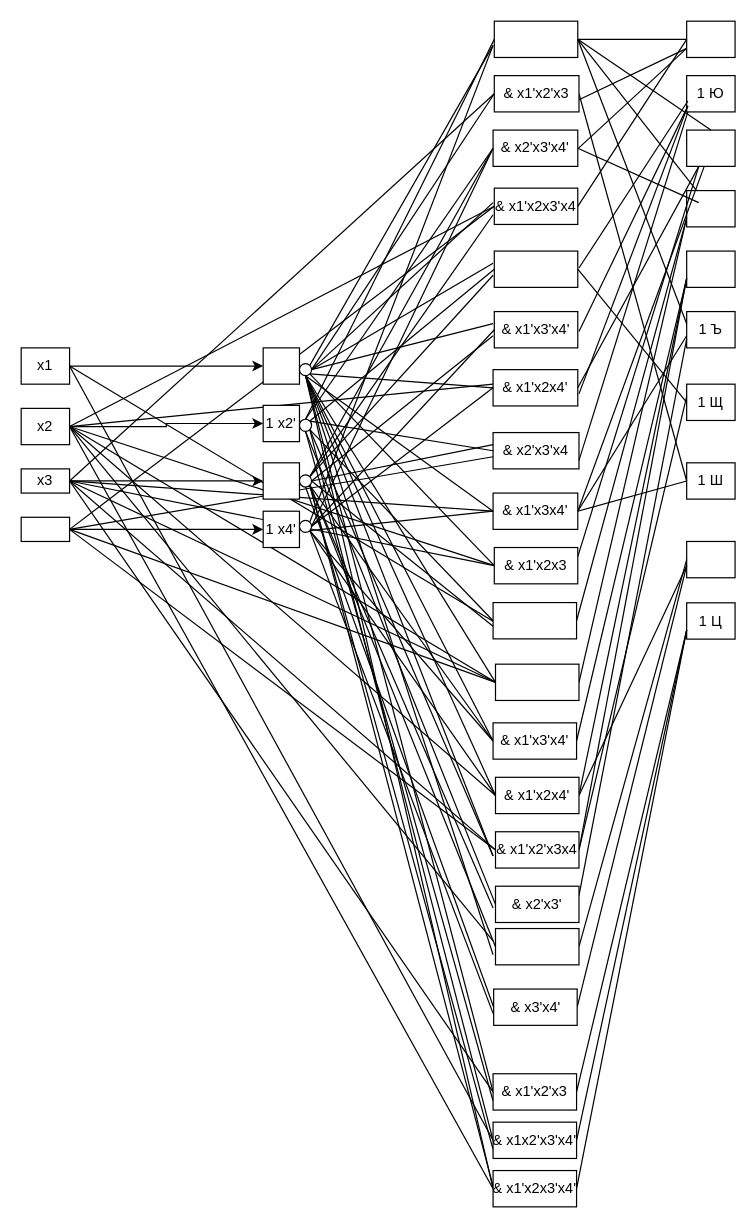
Image size: 756x1228. Some labels were removed from this diagram. Here are the shapes that lost their labels. From the top down, the box of each, then its label:
(493, 20, 578, 57): & x1'x2'x4'
(685, 20, 735, 57): 1 Я
(685, 129, 735, 166): 1 Э
(685, 189, 735, 227): 1 Ь
(493, 250, 578, 287): & x1'x2'x3'
(685, 250, 735, 287): 1 Ы
(262, 347, 299, 384): 1 x1'
(262, 462, 299, 499): 1 x3'
(20, 516, 70, 541): x4
(685, 540, 735, 578): 1 Ч
(492, 601, 577, 639): & x1x2'x3'
(494, 663, 579, 700): & x1'x2x3x4
(494, 927, 579, 965): & x1'x2x3'
